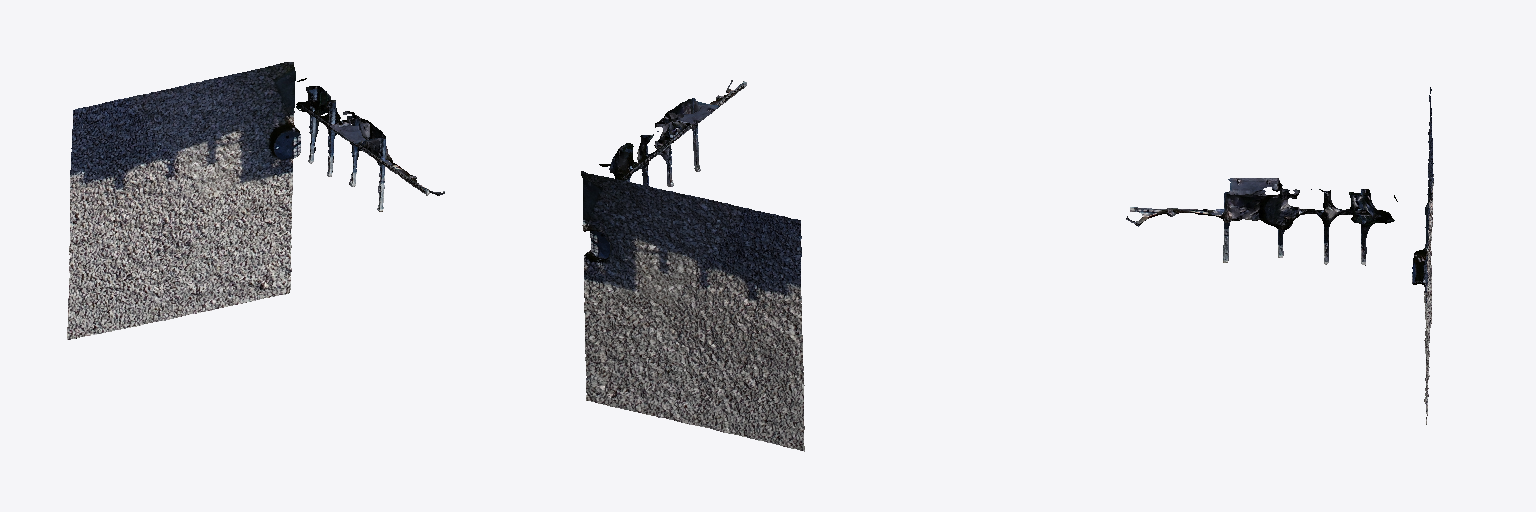
3 renders of one model, left to right at view 1: azimuth 30°, elevation 25°; view 2: azimuth 150°, elevation 25°; view 3: azimuth 270°, elevation 25°, orthographic.
Size of the model in its own units: 1.98 by 1.97 by 2.34.
Materials: 2 (1 with a texture image).